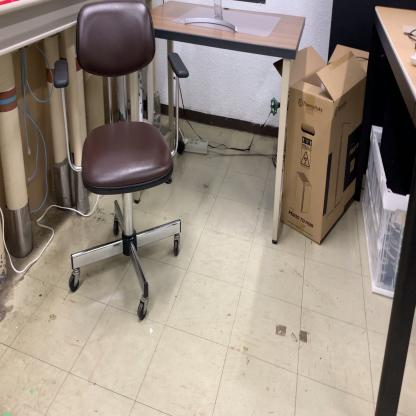chair: (54, 1, 192, 323)
